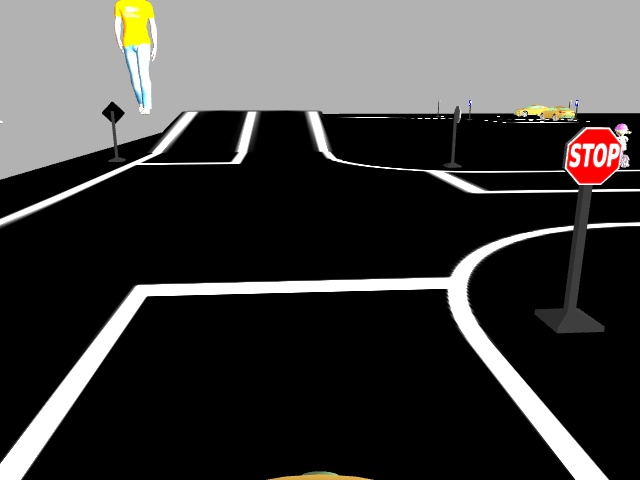Stop: (564, 123, 622, 186)
